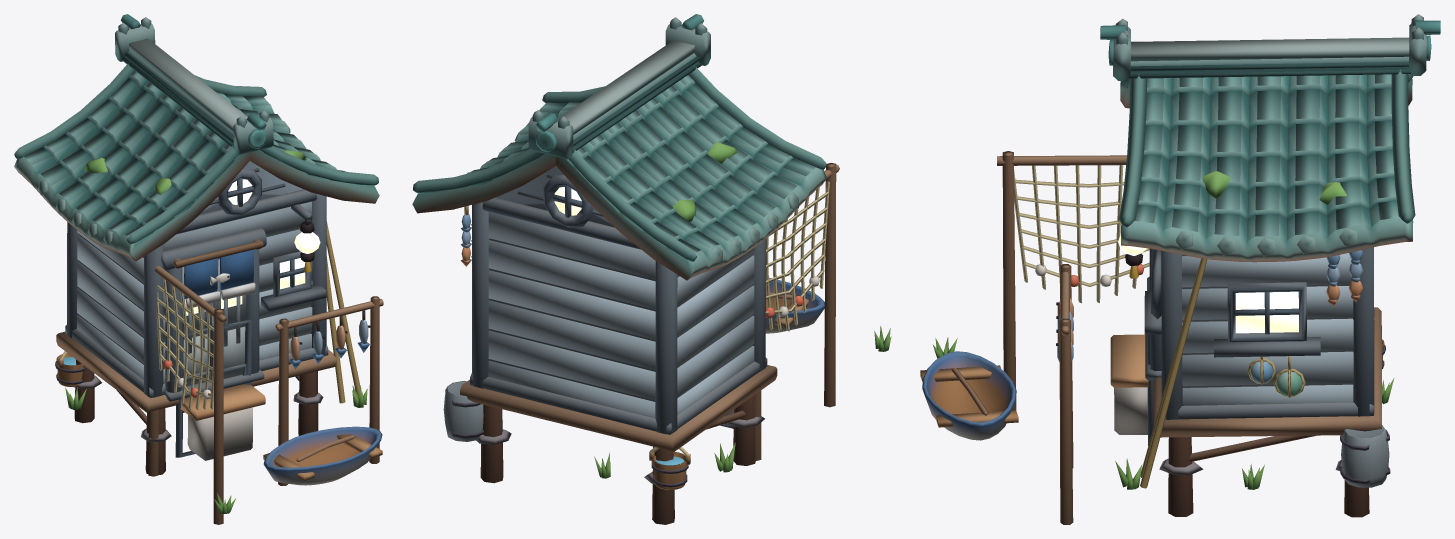
Rendered from fishingHut-1.glb.
3 renders of one model, left to right at view 1: azimuth 30°, elevation 25°; view 2: azimuth 150°, elevation 25°; view 3: azimuth 270°, elevation 25°, orthographic. The views are drawn at different scales.
Parts seen in each view (by area): view 1: fishingHut-1, window_glow; view 2: fishingHut-1; view 3: fishingHut-1, window_glow.
Part boxes in pixels (box(x1,y1,x2,y2)): fishingHut-1: box(14, 14, 383, 524); window_glow: box(185, 179, 320, 315); fishingHut-1: box(412, 14, 891, 524); fishingHut-1: box(920, 14, 1440, 524); window_glow: box(1118, 234, 1298, 333).
Bounding box in the file's own units: 2.22 × 3.04 × 3.22.
